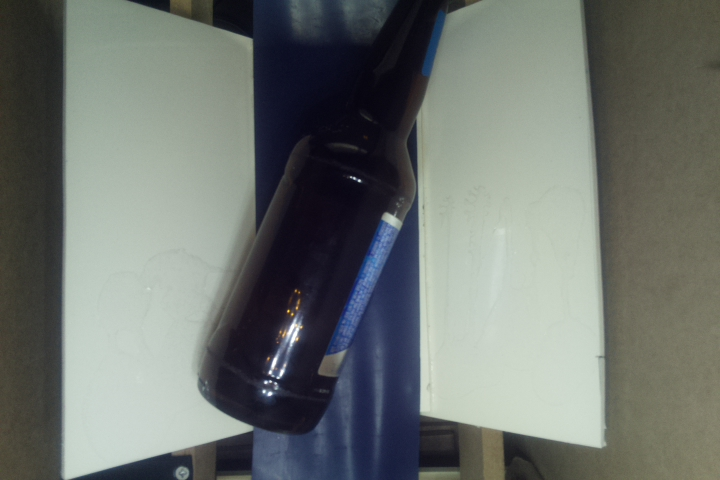makju: (193, 1, 459, 435)
